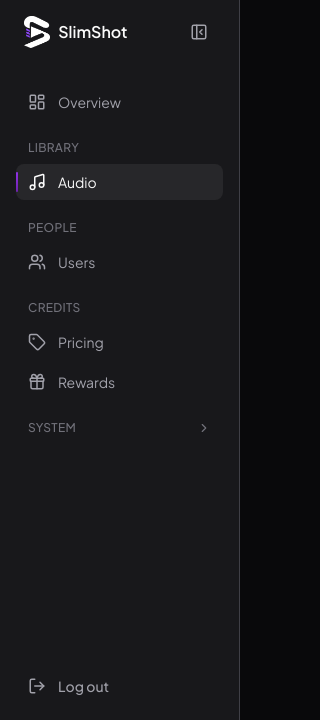
Sidebar sections › unfolds and folds System when its heading is clicked
Click the button "System" at (120,430), box [16,420,223,440]
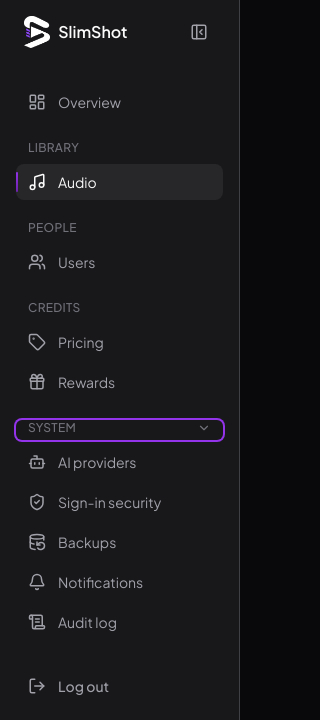
Expected: the button "System" is expanded
Expected: the link "Audit log" is shown, [28,613,117,631]
Click the button "System" at (120,430), box [16,420,223,440]
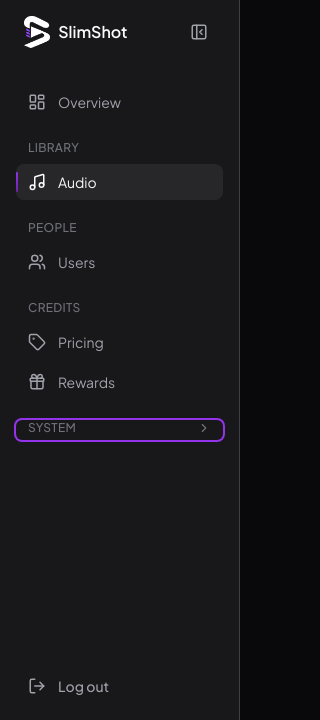
Expected: the button "System" is collapsed, [16,420,223,440]
Expected: the link "Backups" is gone
